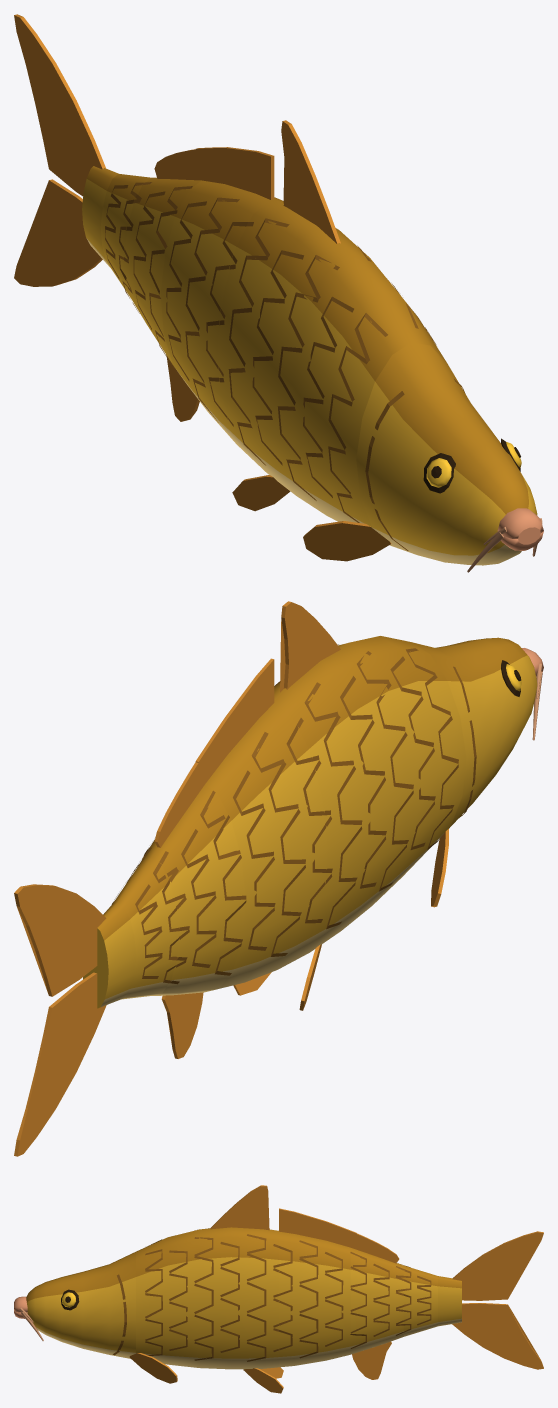
The model's file is legend_golden_carp.fbx.
The picture shows the model from 3 angles, top to bottom: view 1: azimuth 30°, elevation 25°; view 2: azimuth 150°, elevation 25°; view 3: azimuth 270°, elevation 25°; orthographic projection. The views are drawn at different scales.
Parts seen in each view (by area): view 1: geo_Spine.F, geo_Head, geo_Spine.B1, geo_Spine.B2, geo_Tail.Upper, geo_Tail.Lower, geo_Dorsal1, geo_Spine.B3, geo_Pec.R, geo_Tail, geo_Pel.R, geo_Anal (+1 smaller); view 2: geo_Spine.F, geo_Spine.B1, geo_Spine.B2, geo_Head, geo_Tail.Upper, geo_Tail.Lower, geo_Spine.B3, geo_Tail, geo_Dorsal1, geo_Anal, geo_Pec.R; view 3: geo_Spine.F, geo_Spine.B1, geo_Head, geo_Spine.B2, geo_Tail.Upper, geo_Tail.Lower, geo_Spine.B3, geo_Dorsal1, geo_Tail, geo_Anal, geo_Pec.L, geo_Pel.L.
Boxes of the visible parts, box(x1,y1,x2,y2) form: geo_Spine.F: box(217, 199, 446, 528); geo_Head: box(356, 342, 537, 565); geo_Spine.B1: box(160, 147, 283, 457); geo_Spine.B2: box(124, 149, 201, 364); geo_Tail.Upper: box(14, 14, 105, 196); geo_Tail.Lower: box(14, 179, 102, 286); geo_Dorsal1: box(281, 120, 340, 244); geo_Spine.B3: box(100, 173, 151, 299); geo_Pec.R: box(303, 521, 391, 561); geo_Tail: box(82, 166, 118, 267); geo_Pel.R: box(232, 475, 290, 511); geo_Anal: box(166, 355, 199, 421); geo_Spine.F: box(274, 636, 466, 960); geo_Spine.B1: box(195, 658, 327, 988); geo_Spine.B2: box(134, 755, 246, 995); geo_Head: box(412, 637, 537, 826); geo_Tail.Upper: box(14, 884, 106, 996); geo_Tail.Lower: box(14, 972, 106, 1156); geo_Spine.B3: box(111, 857, 179, 999); geo_Tail: box(83, 902, 136, 1008); geo_Dorsal1: box(280, 601, 340, 692); geo_Anal: box(161, 992, 203, 1058); geo_Pec.R: box(431, 829, 448, 907); geo_Spine.F: box(136, 1227, 279, 1369); geo_Spine.B1: box(278, 1208, 356, 1367); geo_Head: box(26, 1252, 135, 1358); geo_Spine.B2: box(350, 1232, 403, 1354); geo_Tail.Upper: box(452, 1231, 543, 1300); geo_Tail.Lower: box(452, 1303, 543, 1369); geo_Spine.B3: box(403, 1265, 437, 1336); geo_Dorsal1: box(210, 1185, 269, 1230); geo_Tail: box(438, 1276, 461, 1326); geo_Anal: box(352, 1341, 391, 1379); geo_Pec.L: box(129, 1353, 177, 1383); geo_Pel.L: box(243, 1368, 283, 1393).
Size of the model in its own units: 0.1555 by 0.416 by 1.
